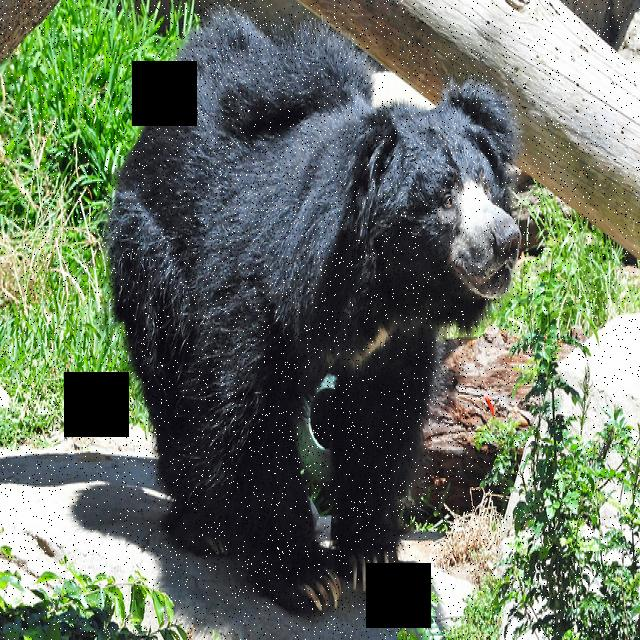Bear: (111, 8, 522, 616)
